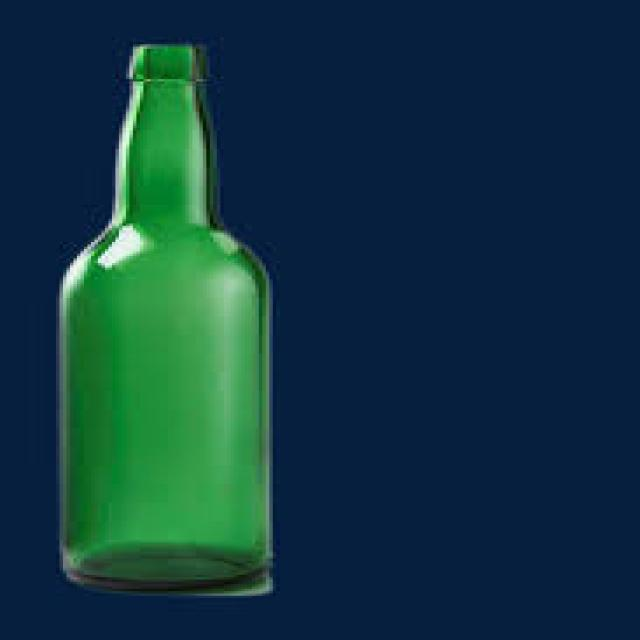glass: (52, 42, 273, 593)
